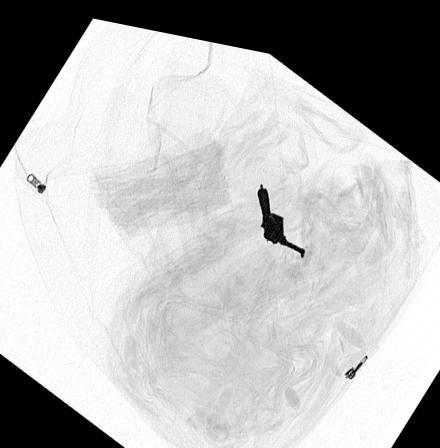Gun: (256, 177, 306, 245)
